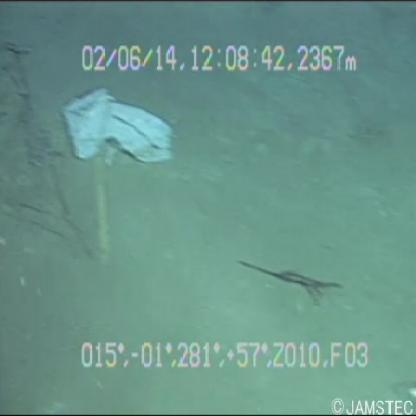Rác: (48, 67, 183, 180)
